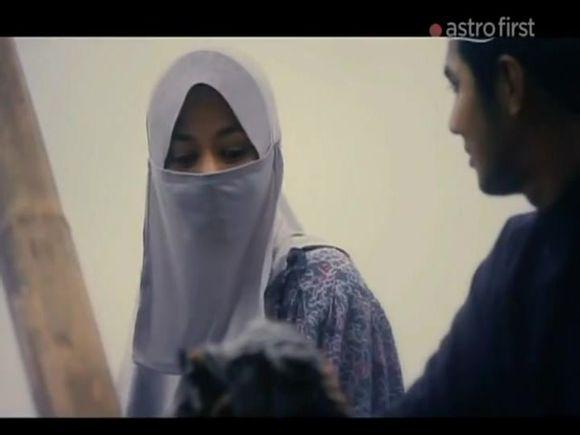NONE: (443, 67, 538, 193)
OK: (163, 127, 270, 234)
